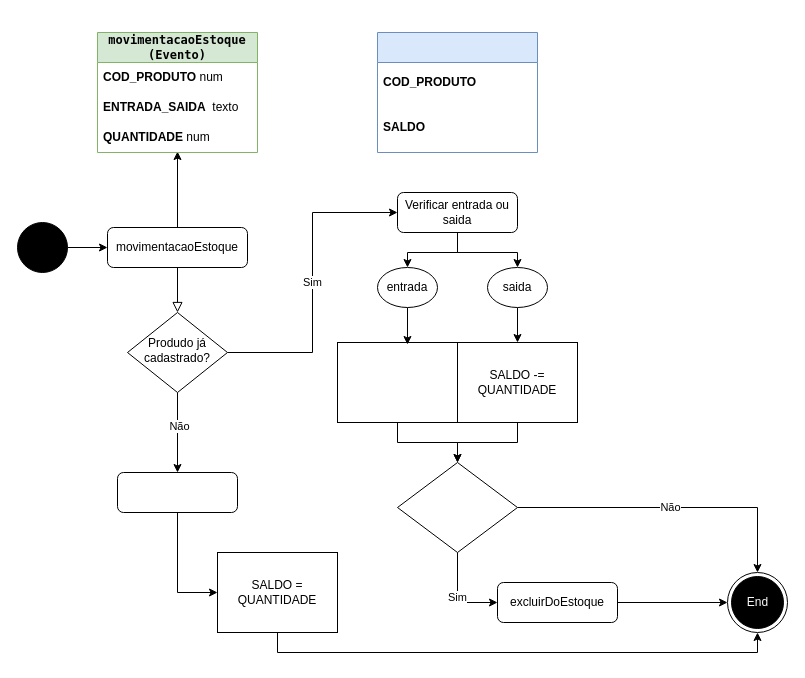
Image size: 805x678. Some labels were removed from this diagram. The shapes that lost their labels are listed below. From the top down, each one's box as (x1, y1, x2, y2) in pixels, then its label:
(376, 32, 538, 152): Estoque
(16, 222, 68, 272): Start
(336, 342, 458, 422): SALDO += QUANTIDADE
(116, 472, 238, 512): incluirProduto
(396, 462, 518, 552): Saldo igual ou menor que zero ?
